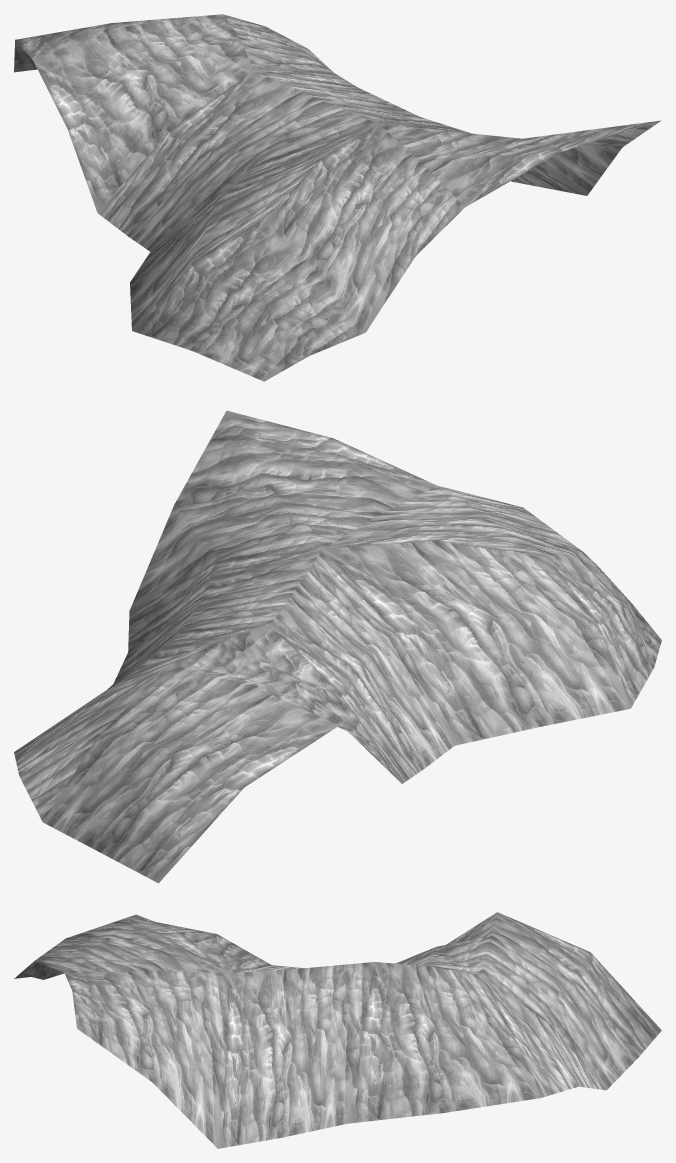
File: SWORDLIGHT20_PS-AREA03_48.fbx
3 views of the same model, one above another, from view 1: azimuth 30°, elevation 25°; view 2: azimuth 150°, elevation 25°; view 3: azimuth 270°, elevation 25° (orthographic). The views are drawn at different scales.
Visible parts, largest first — view 1: SWORDLIGHT20_PS-AREA03_48; view 2: SWORDLIGHT20_PS-AREA03_48; view 3: SWORDLIGHT20_PS-AREA03_48.
Boxes of the visible parts, x1,y1,x2,y2 form: SWORDLIGHT20_PS-AREA03_48: [14, 14, 661, 381]; SWORDLIGHT20_PS-AREA03_48: [14, 410, 661, 883]; SWORDLIGHT20_PS-AREA03_48: [14, 912, 661, 1148].
Bounding box in the file's own units: 236883 × 70755 × 339086.
Materials: 1 (1 with a texture image).
